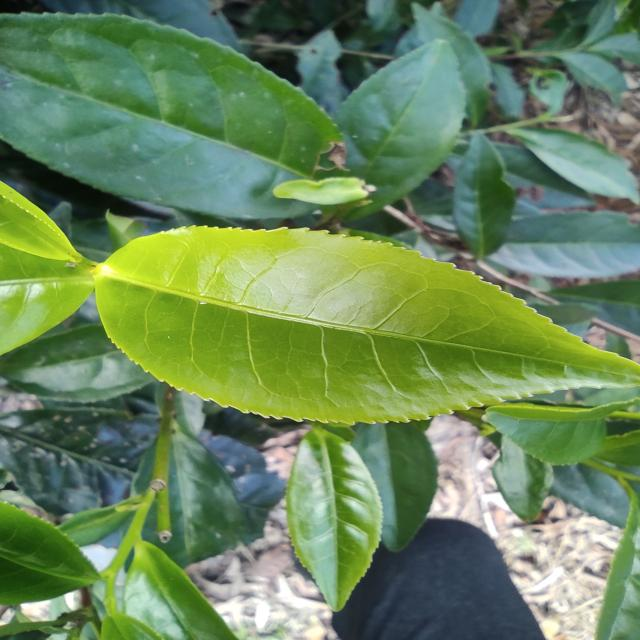Category B 2-4 days: (84, 220, 640, 431)
